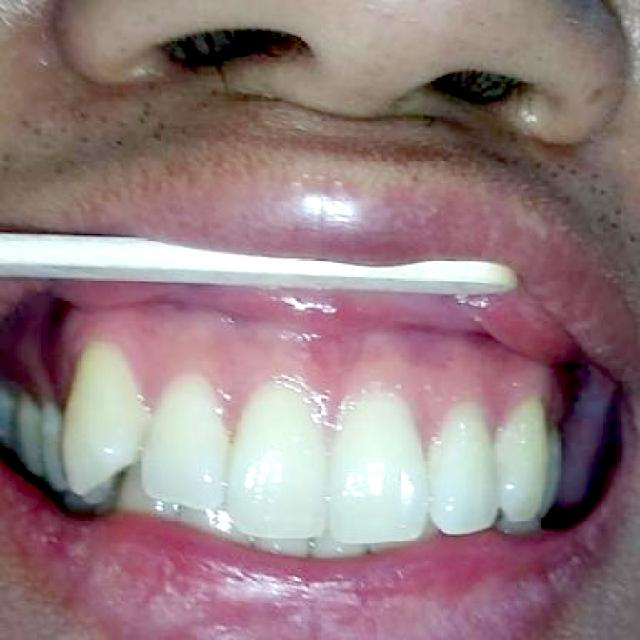Plaque: (496, 398, 552, 446)
